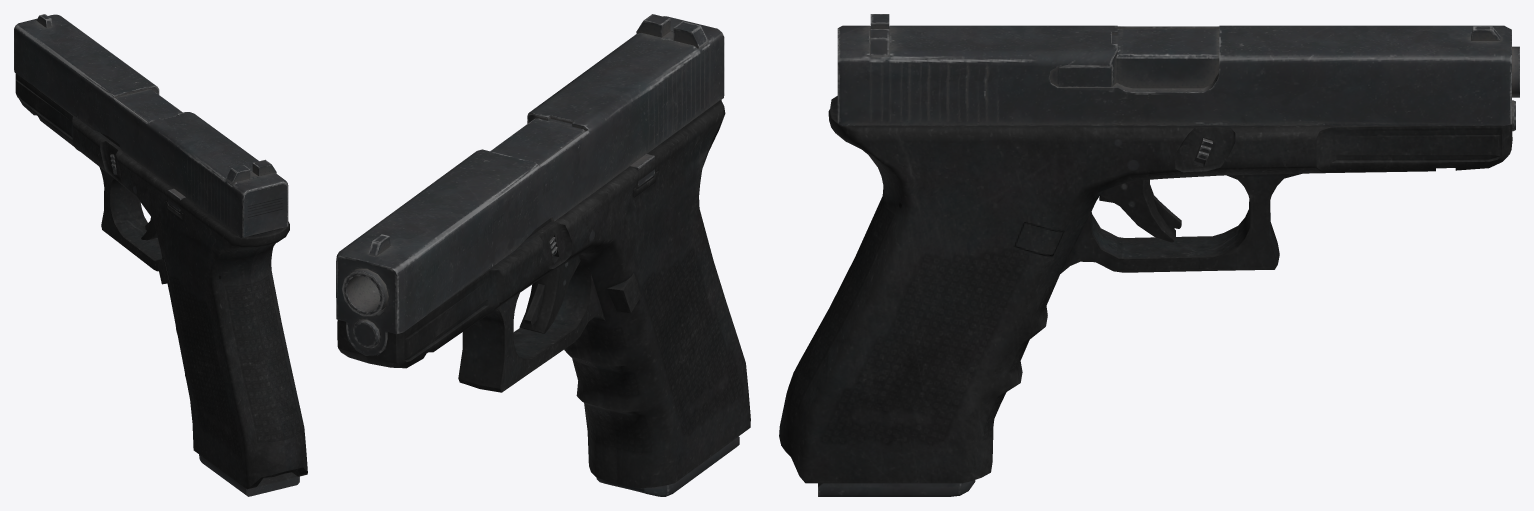
File: Glock17.obj
3 renders of one model, left to right at view 1: azimuth 30°, elevation 25°; view 2: azimuth 150°, elevation 25°; view 3: azimuth 270°, elevation 25°, orthographic. The views are drawn at different scales.
Visible parts, largest first — view 1: Glock17, temp_textureEditorIsolateSelectSet Glock17 Slide, Glock17 Slide, Glock17 Magazine; view 2: Glock17, temp_textureEditorIsolateSelectSet Glock17 Slide, Glock17 Slide, Glock17 Trigger, Glock17 Magazine; view 3: Glock17, temp_textureEditorIsolateSelectSet Glock17 Slide, Glock17 Slide, Glock17 Trigger, Glock17 Magazine.
Boxes of the visible parts, box(x1,y1,x2,y2) form: Glock17: box(15, 73, 307, 489); temp_textureEditorIsolateSelectSet Glock17 Slide: box(14, 14, 288, 237); Glock17 Slide: box(36, 14, 288, 237); Glock17 Magazine: box(199, 454, 299, 496); Glock17: box(337, 99, 750, 488); temp_textureEditorIsolateSelectSet Glock17 Slide: box(336, 16, 724, 333); Glock17 Slide: box(336, 14, 707, 355); Glock17 Trigger: box(519, 255, 580, 333); Glock17 Magazine: box(596, 436, 739, 496); Glock17: box(779, 29, 1519, 483); temp_textureEditorIsolateSelectSet Glock17 Slide: box(837, 25, 1511, 125); Glock17 Slide: box(870, 14, 1500, 92); Glock17 Trigger: box(1099, 179, 1181, 242); Glock17 Magazine: box(818, 480, 975, 496).
Bounding box in the file's own units: 0.9082 × 4.4 × 6.53.
1 material, 1 textured.
